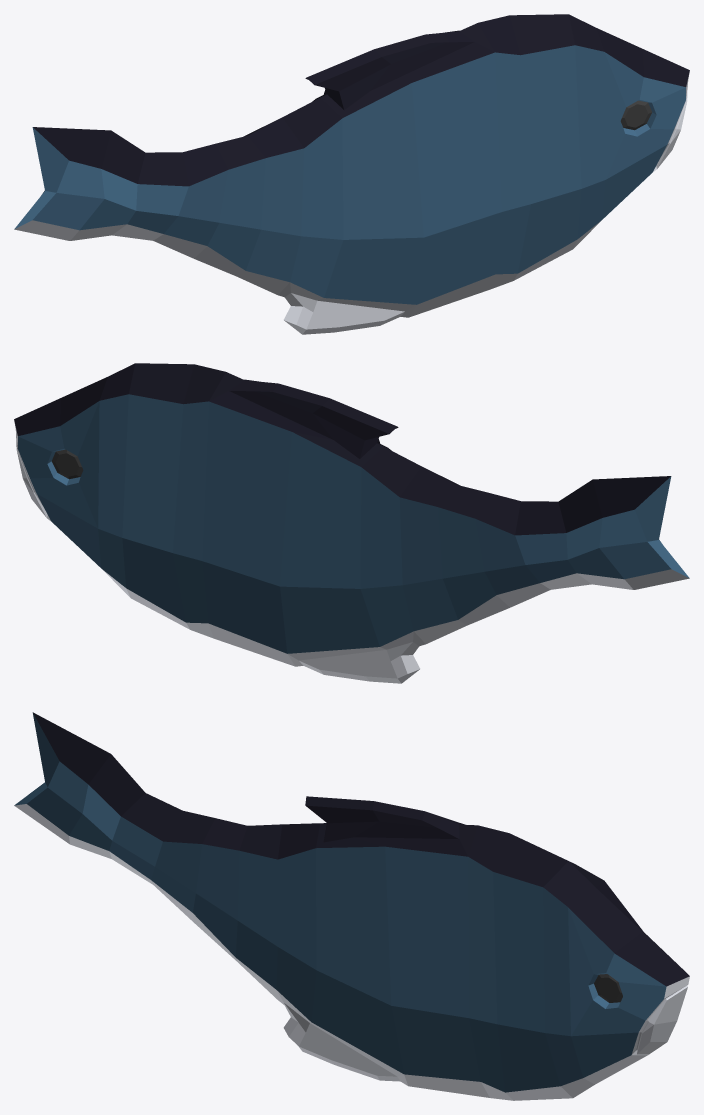
File: FishV1.fbx
3 views of the same model, one above another, from view 1: azimuth 30°, elevation 25°; view 2: azimuth 150°, elevation 25°; view 3: azimuth 330°, elevation 25° (orthographic).
Visible parts, largest first — view 1: FishV1; view 2: FishV1; view 3: FishV1.
Boxes of the visible parts, x1,y1,x2,y2 form: FishV1: (14, 14, 689, 334); FishV1: (14, 363, 689, 683); FishV1: (14, 712, 689, 1100).
Size of the model in its own units: 204 by 81.94 by 19.15.
